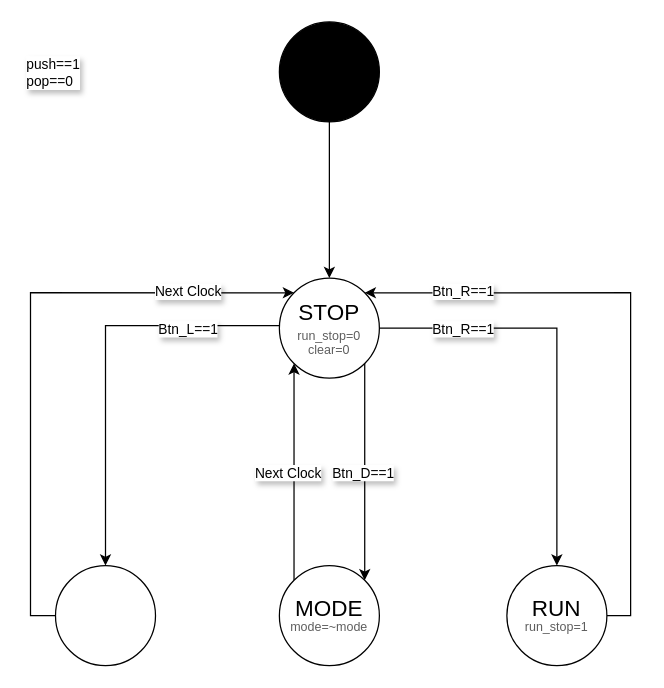
Image size: 664x688. Some labels were removed from this diagram. The box of each missing label's shape, as (x1, y1, x2, y2) in pixels:
CLEAR clear=1: (54, 564, 156, 666)
START run_stop=0 mode=0 clear=0: (278, 21, 379, 122)
